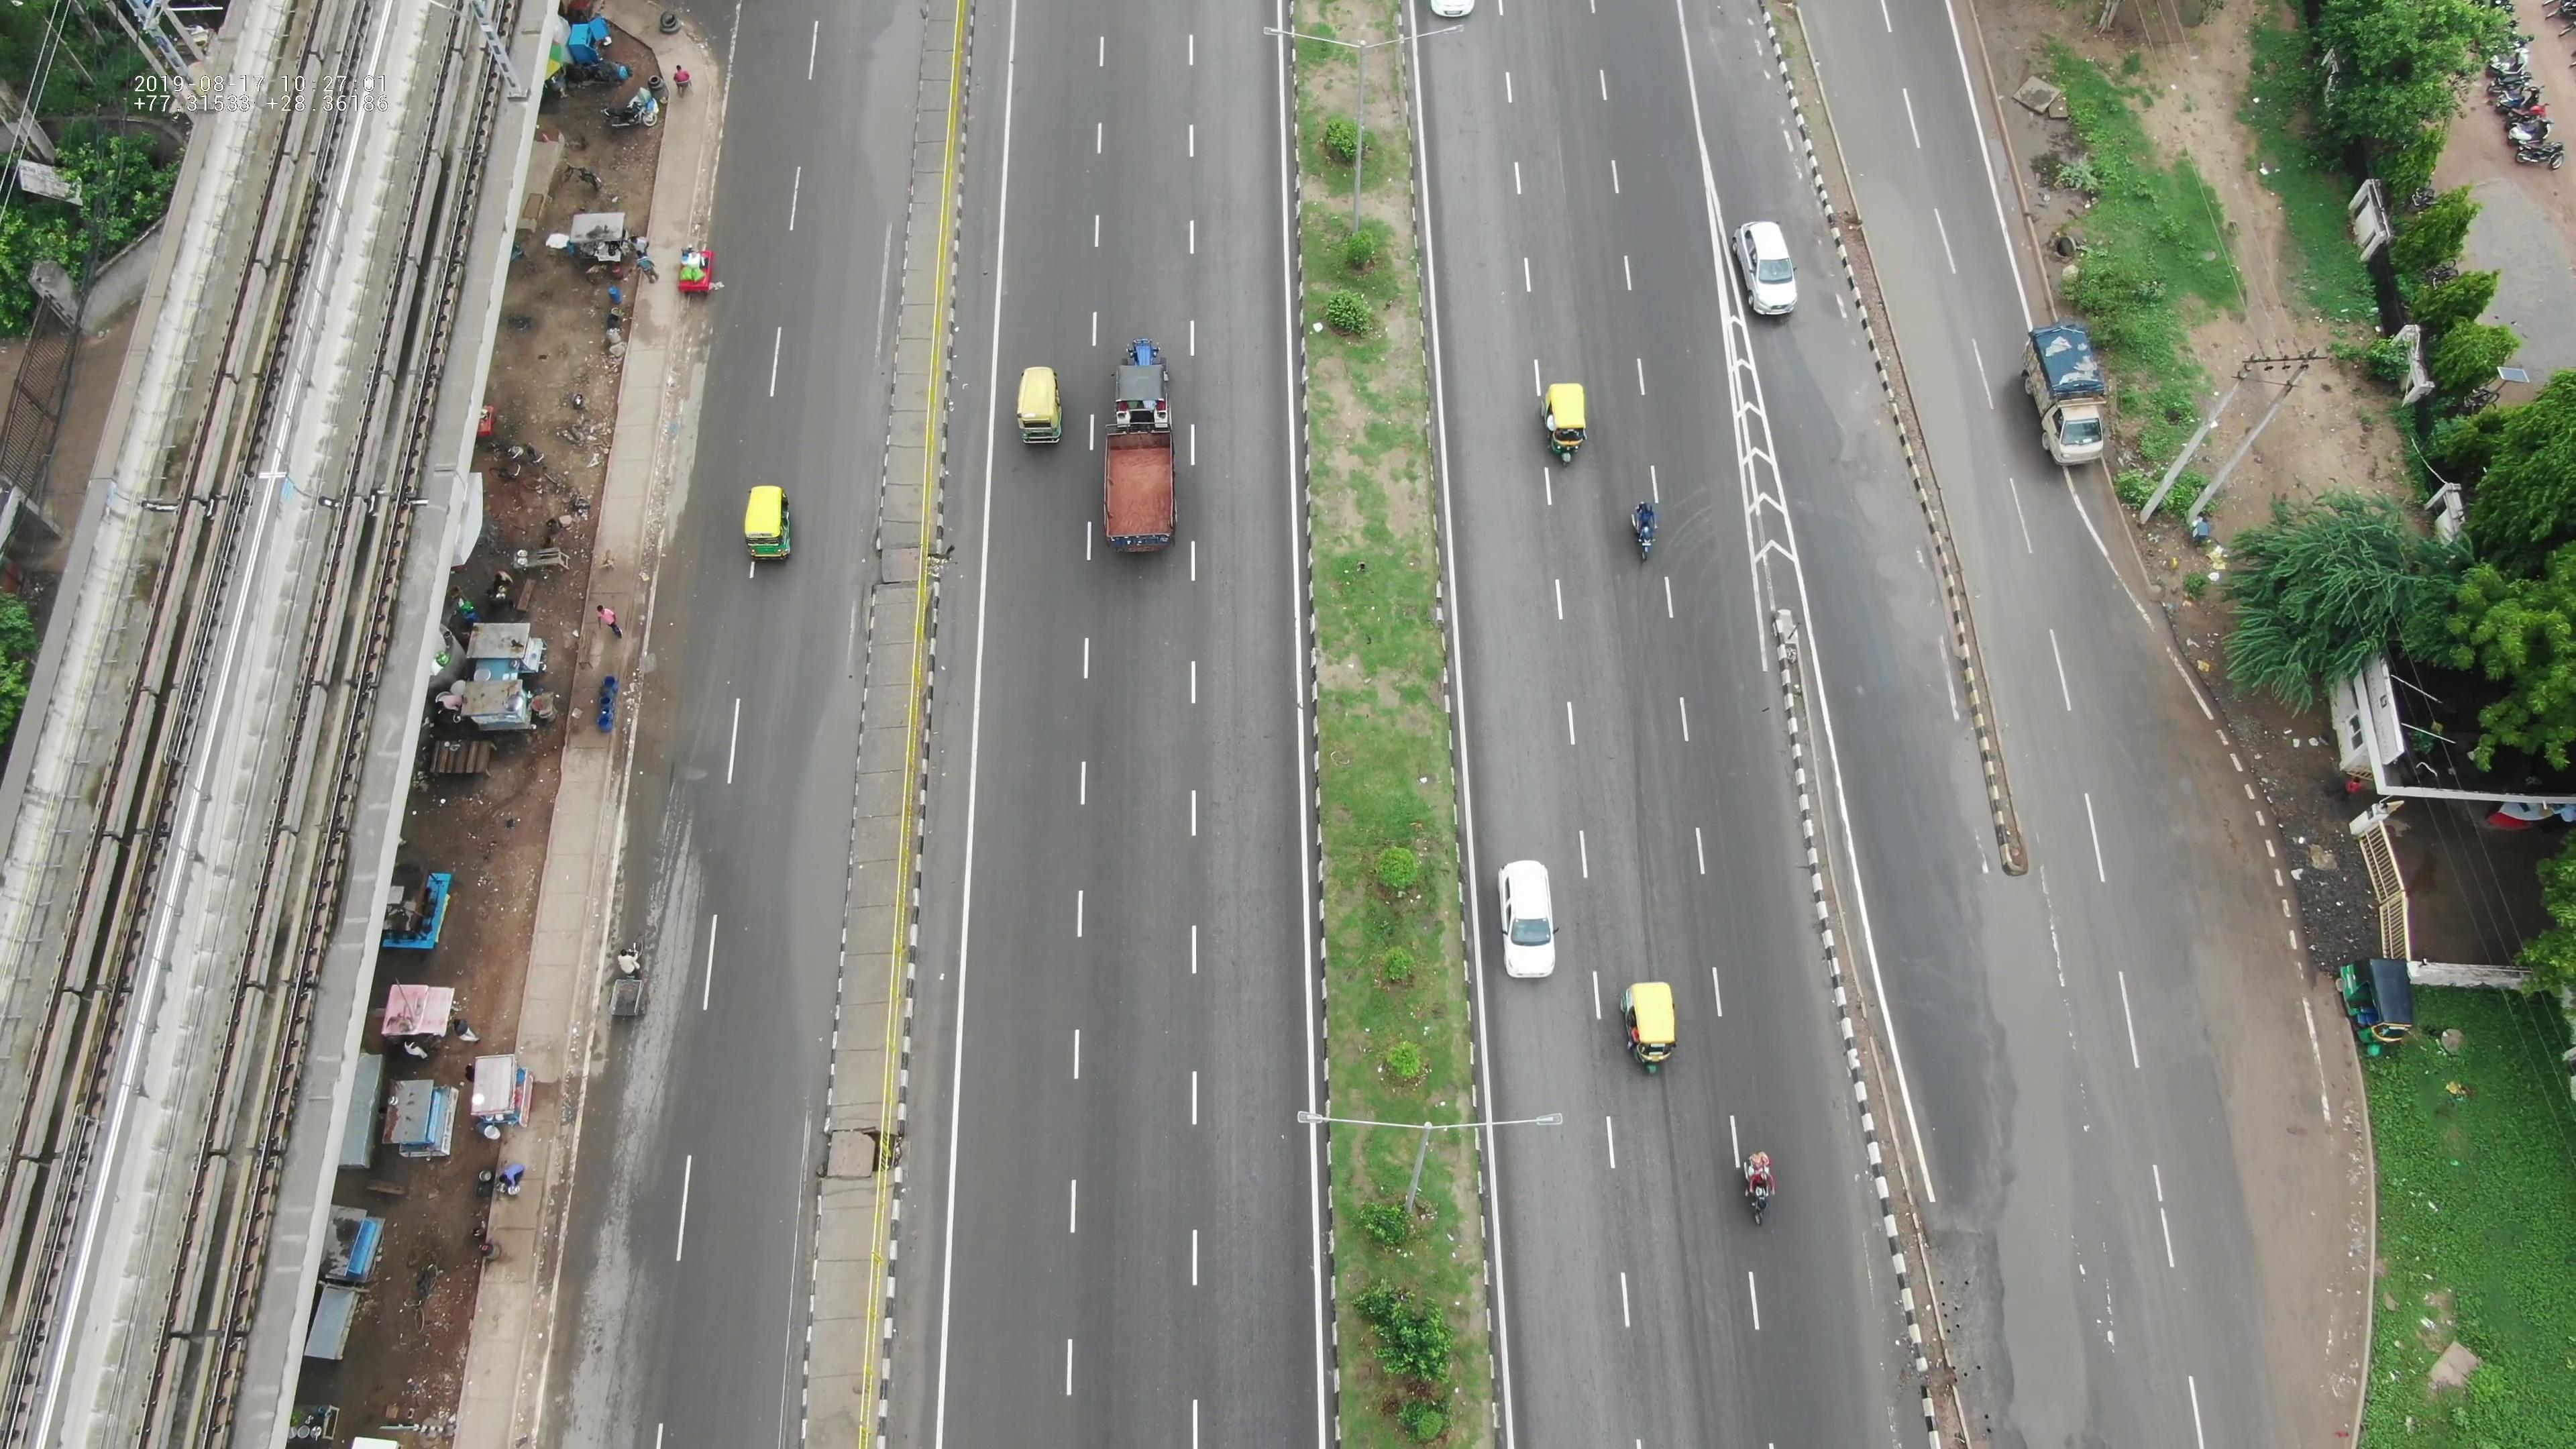Waterlogging: (1996, 1069, 2121, 1440), (1842, 326, 1985, 635), (757, 685, 858, 1040), (840, 0, 909, 234)
